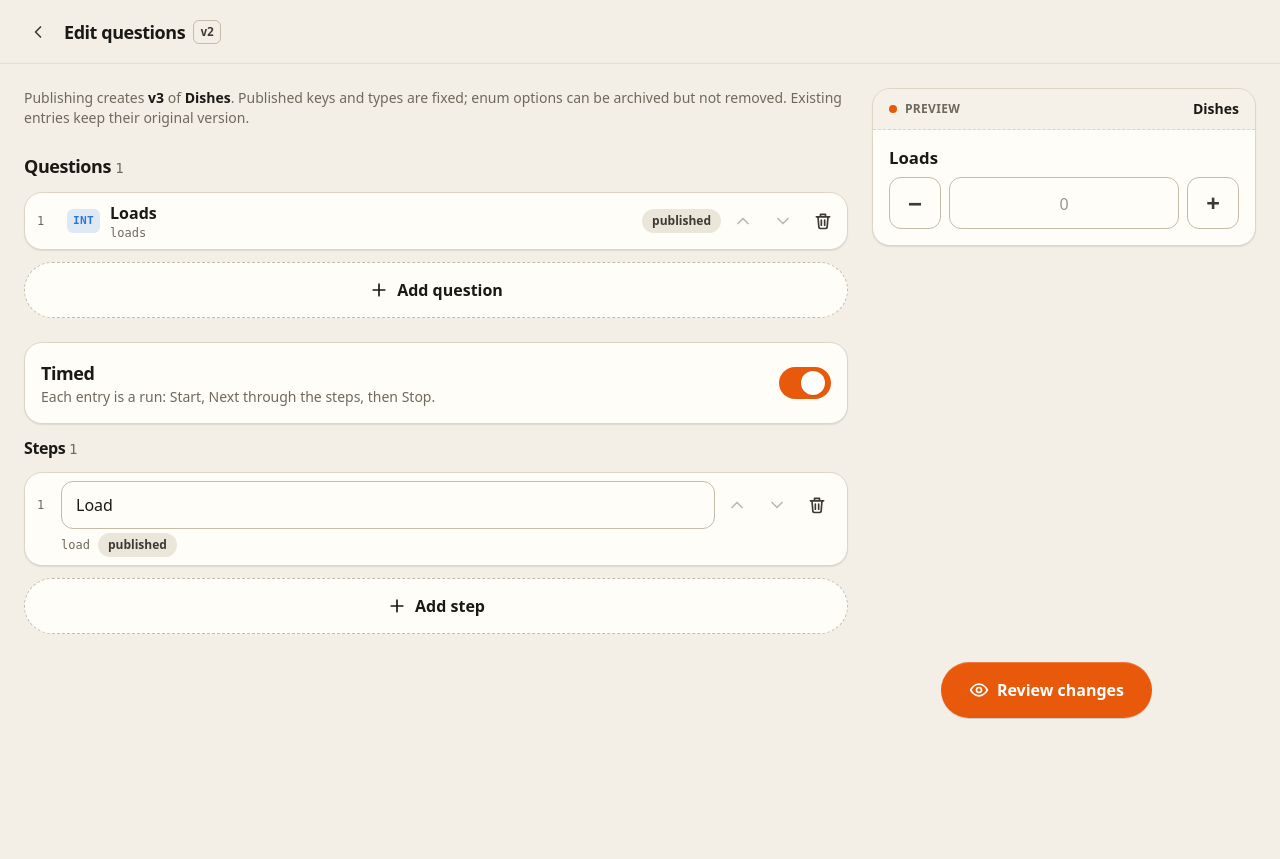
it: EditQuestionsPage publish › a blank step blocks the review with an inline error
Click the button "Add step" at (436, 606), box [24,578,848,634]
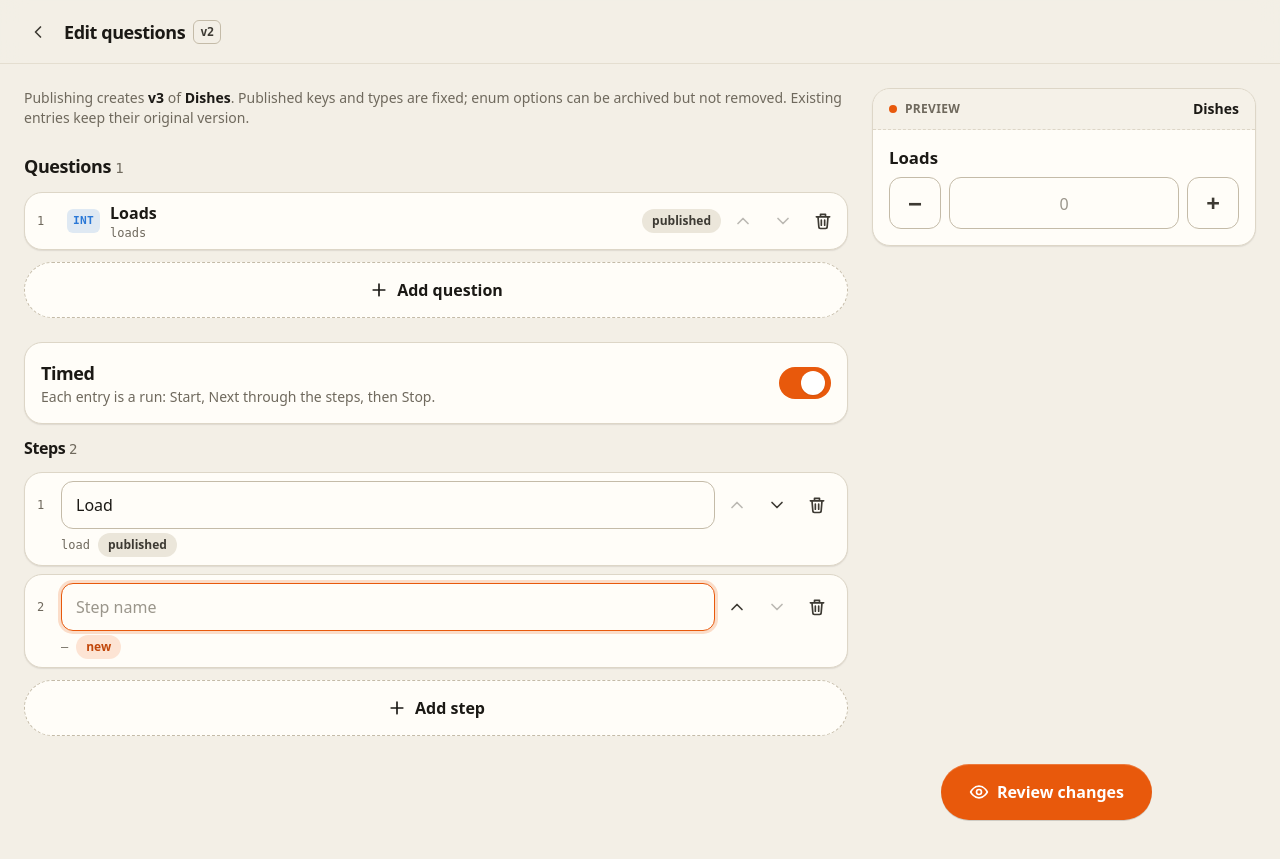
Click the button "Review changes" at (1046, 792), box [941,764,1152,820]
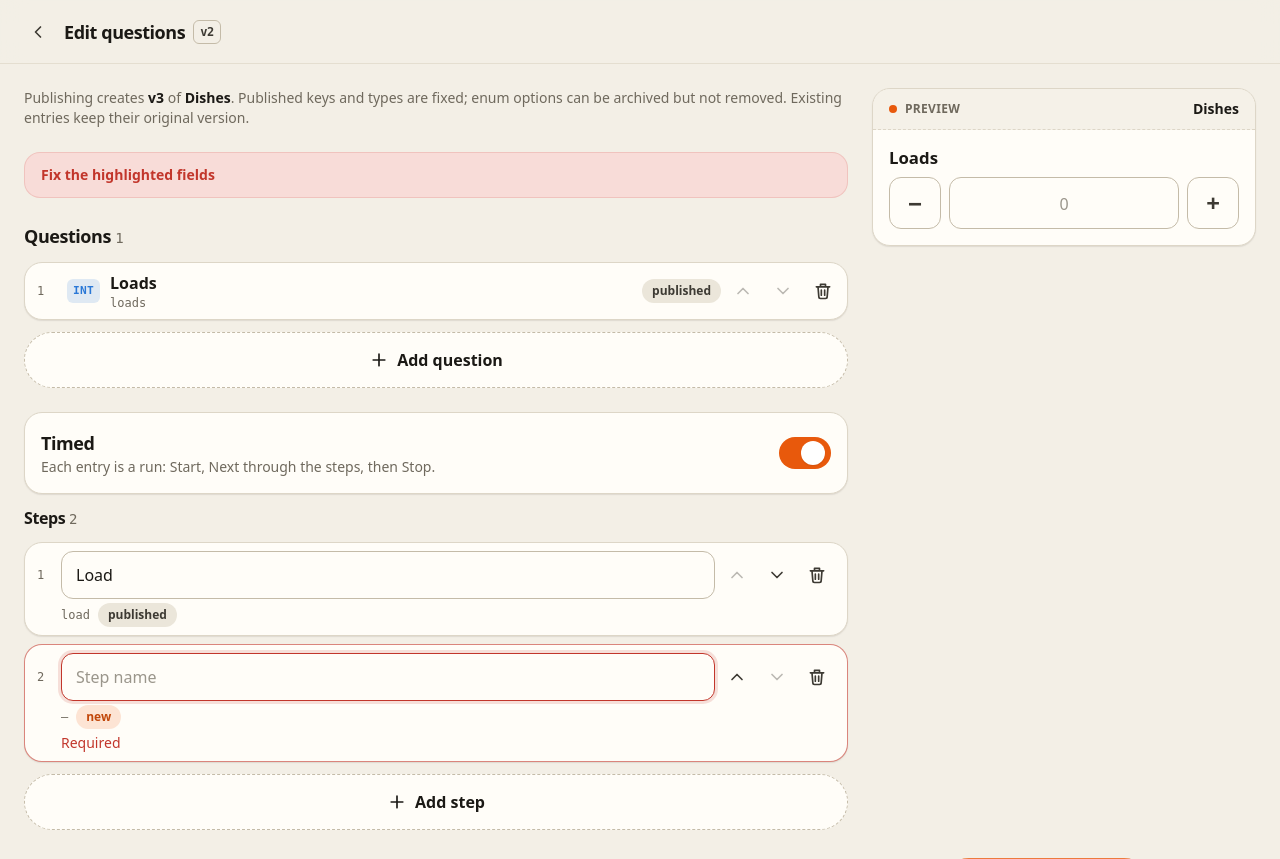
Now the text "Required" is shown, box [61,733,120,752]
